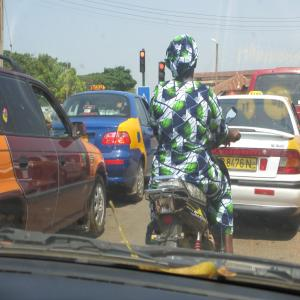Vehicle-registration-plate: (214, 157, 258, 172)
